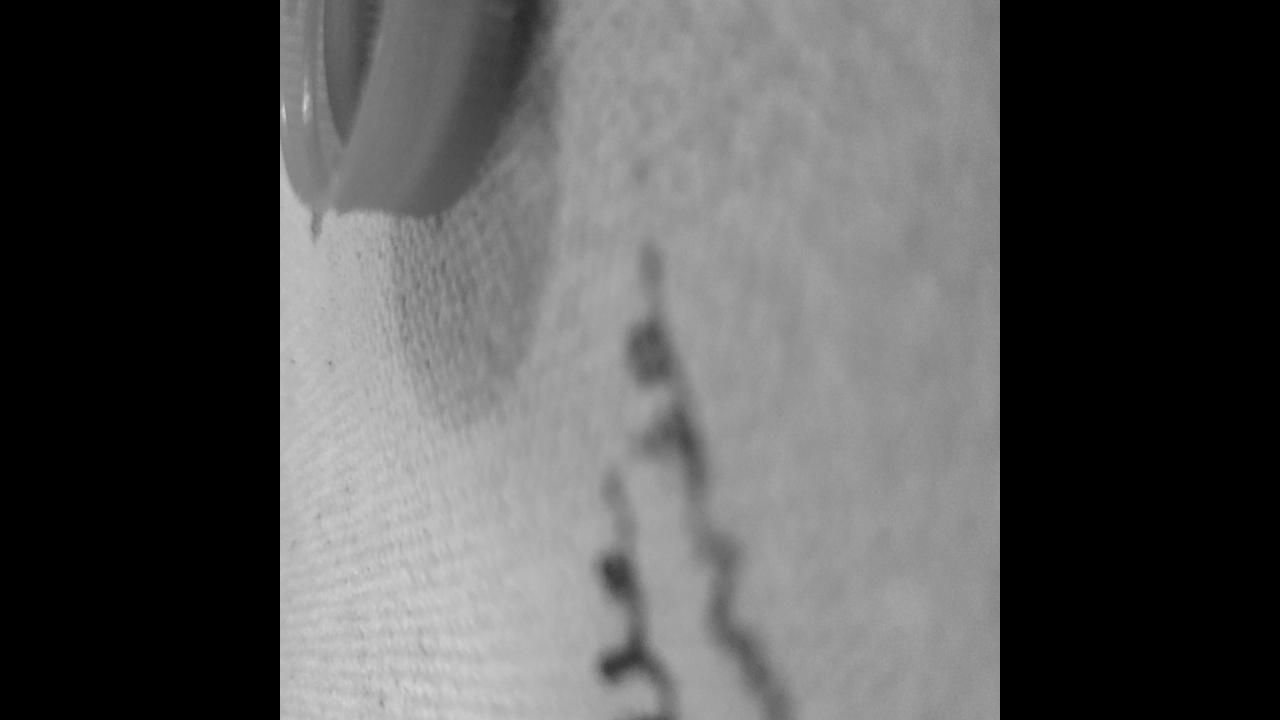bottle_cap: (281, 0, 545, 228)
